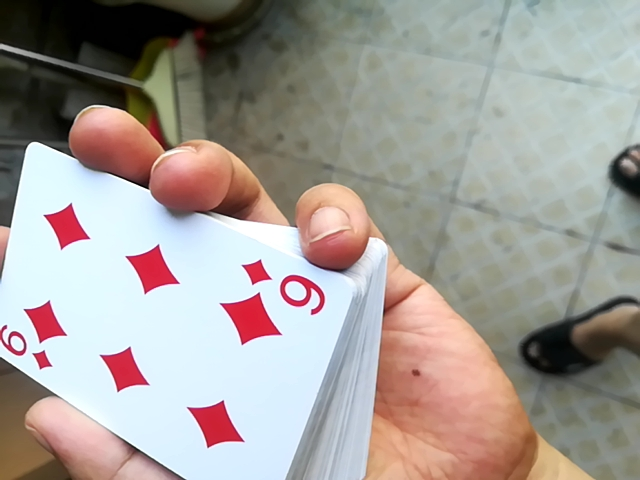fk 6: (3, 143, 374, 477)
